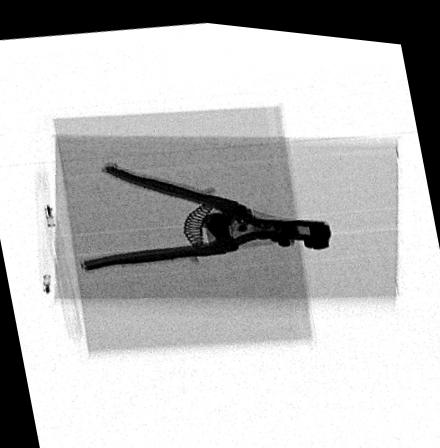Pliers: (79, 160, 330, 269)
